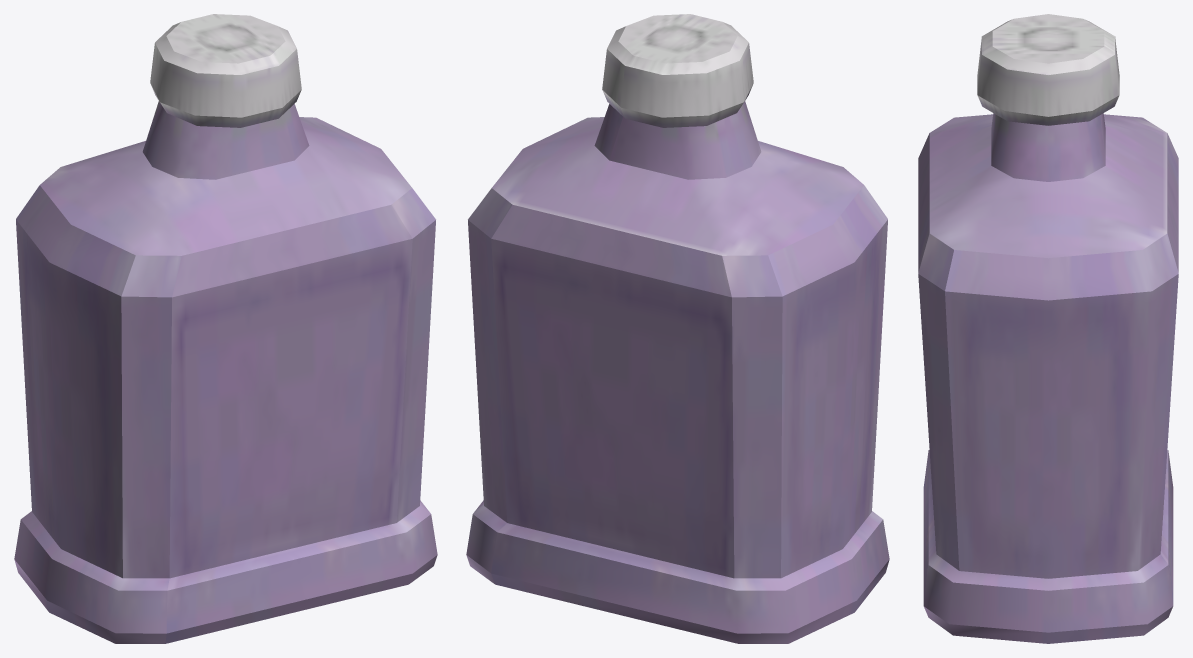
The model's file is eqp_bottle_s01_l0.fbx.
3 renders of one model, left to right at view 1: azimuth 30°, elevation 25°; view 2: azimuth 150°, elevation 25°; view 3: azimuth 270°, elevation 25°, orthographic.
Visible parts, largest first — view 1: mesh_node; view 2: mesh_node; view 3: mesh_node.
Boxes of the visible parts, left/top/right/bottom form: mesh_node: left=14, top=14, right=437, bottom=643; mesh_node: left=466, top=14, right=889, bottom=643; mesh_node: left=918, top=14, right=1178, bottom=643.
Size of the model in its own units: 0.0681 by 0.0966 by 0.0438.
